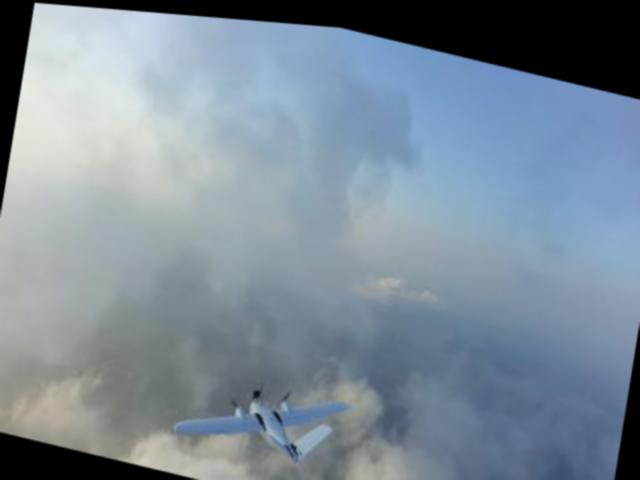uav: (173, 363, 349, 469)
